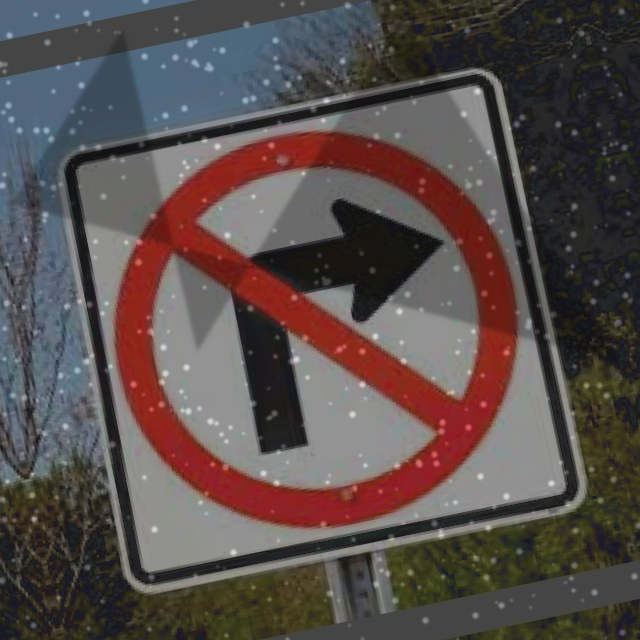Right_Turn_Prohibited: (71, 71, 562, 565)
